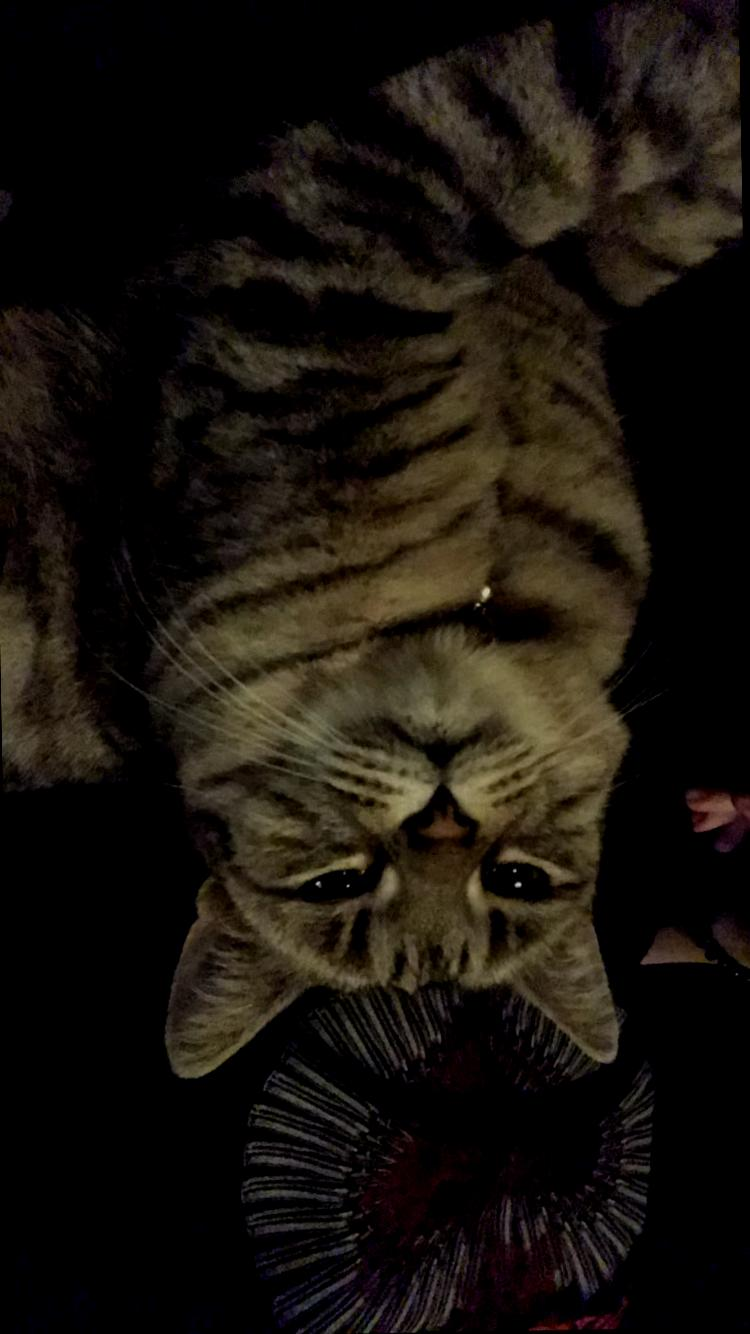macka: (0, 0, 750, 1082)
